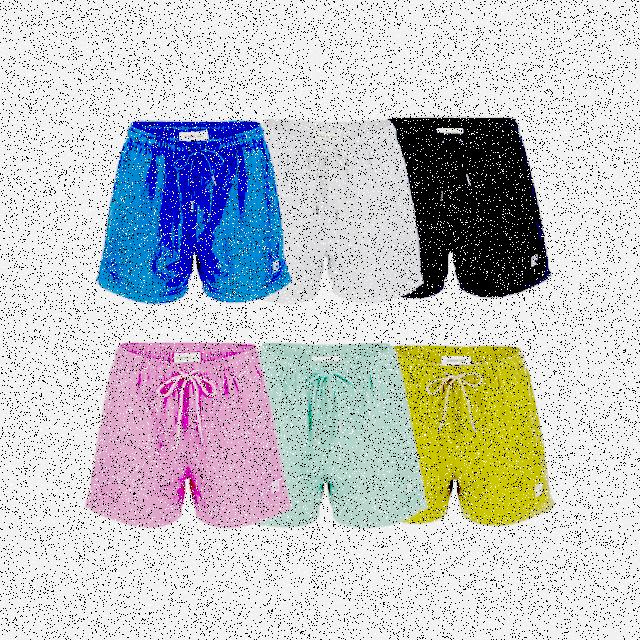dress: (82, 348, 295, 524), (232, 327, 423, 521), (91, 114, 290, 294)
